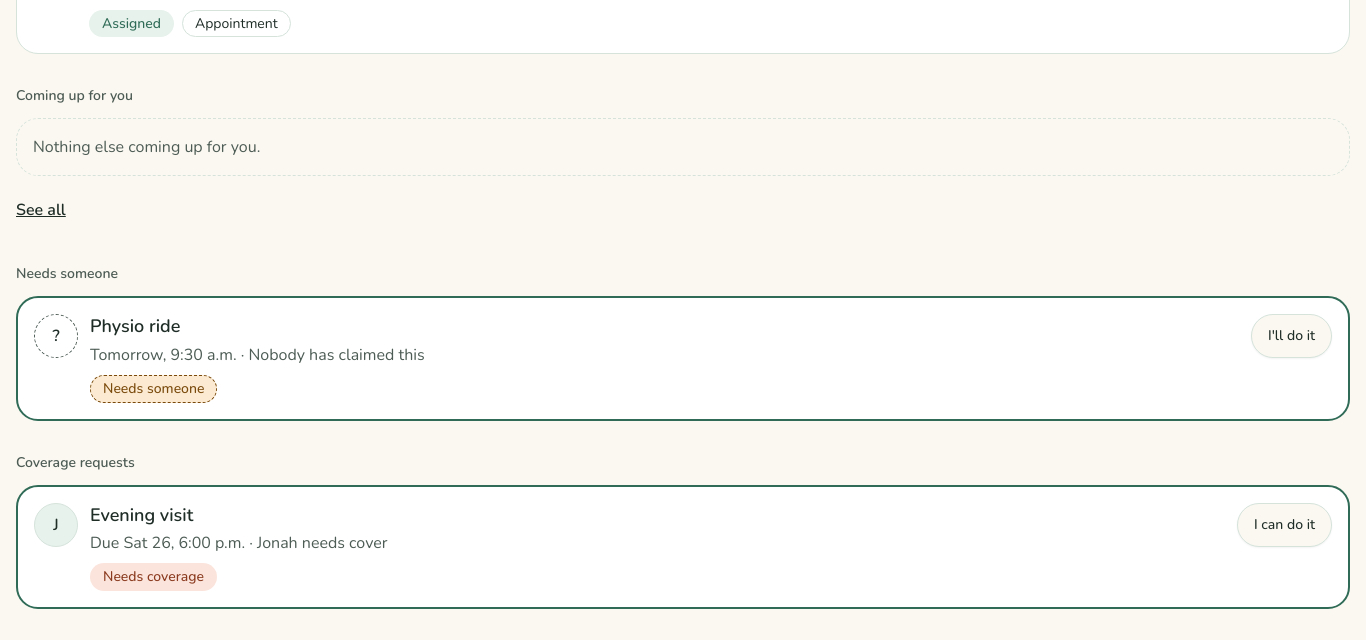
Test case: I'll do it claims the item, and says so in plain language if someone got there first
(page scrolled)
Click the button "I'll do it".
click(1292, 336)  # box x1=1251 y1=314 x2=1332 y2=358
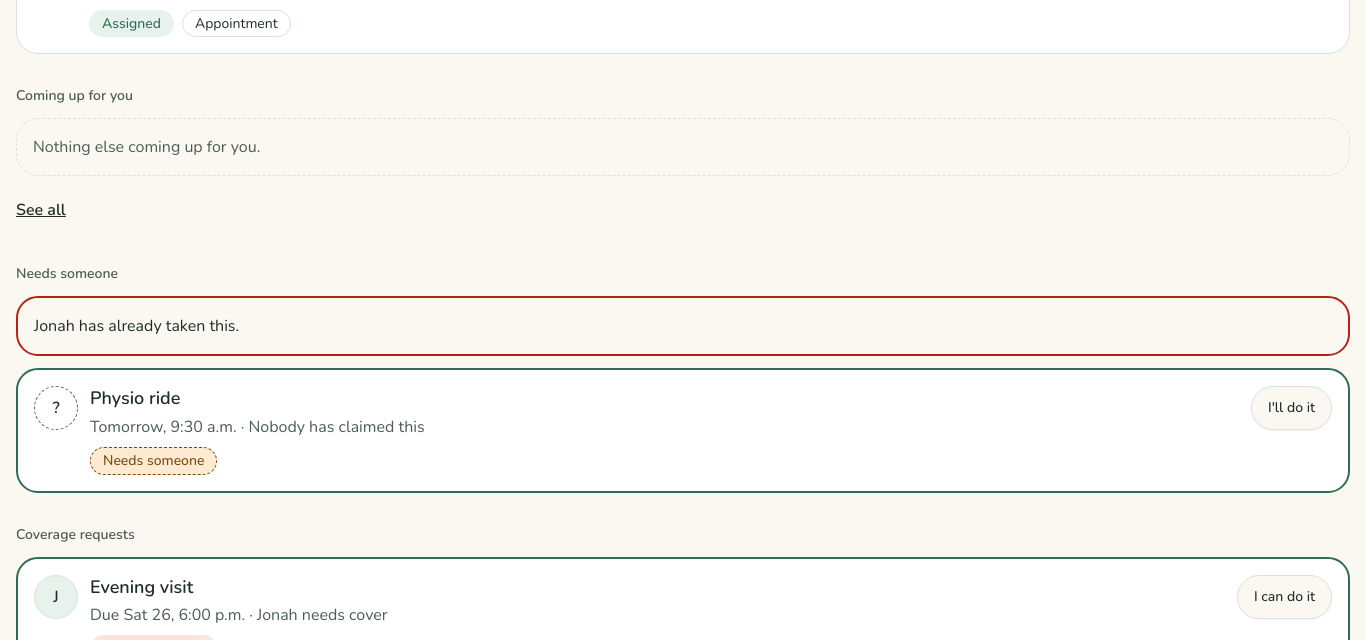
Now the message reads "Jonah has already taken this.", box x1=34 y1=315 x2=239 y2=337
